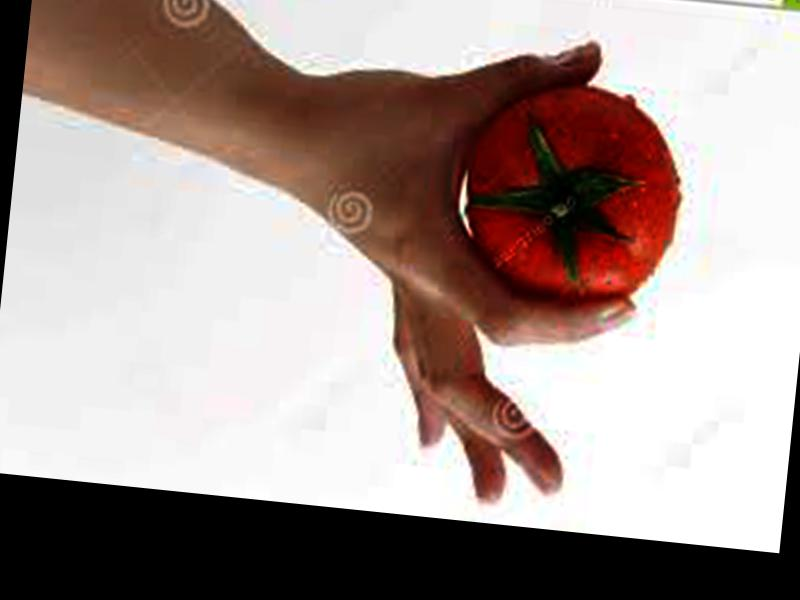Tomato: (455, 75, 690, 315)
